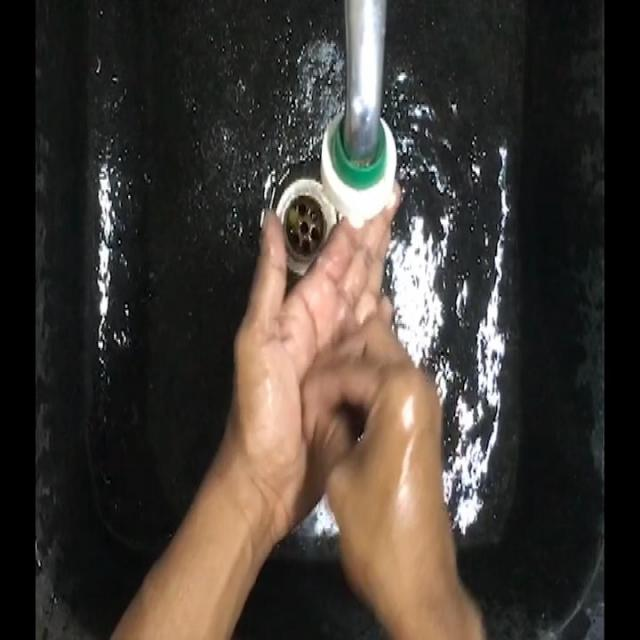step_6: (220, 167, 467, 594)
